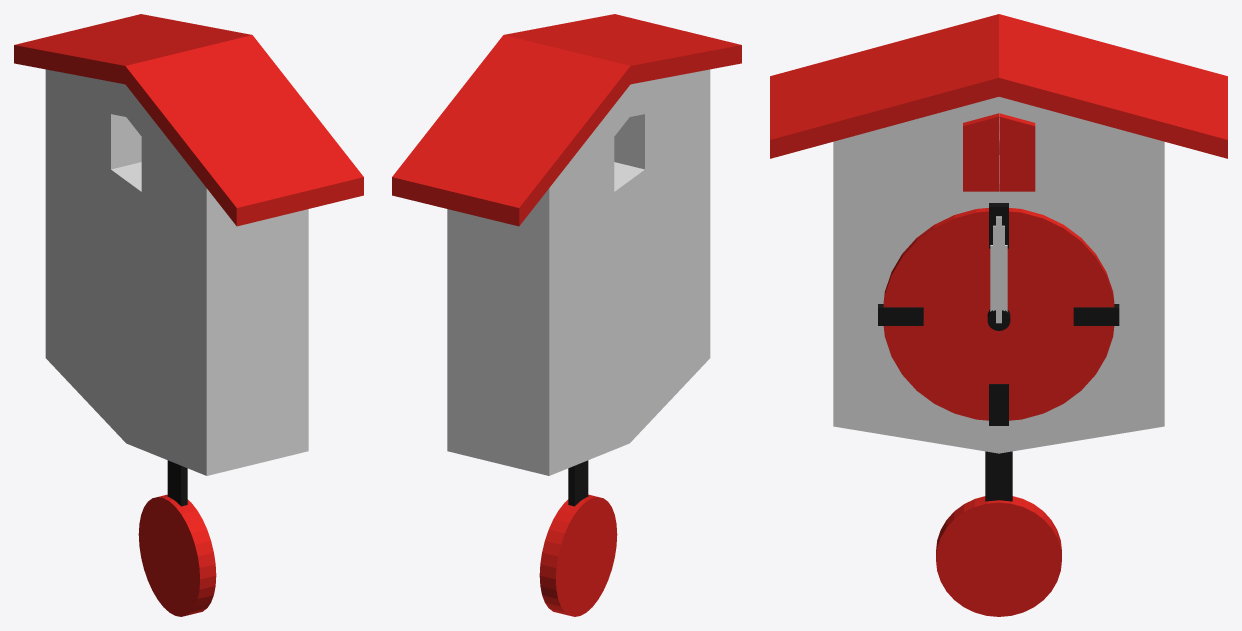
File: CuckooClockFinal.fbx
3 views of the same model, side by side, from view 1: azimuth 30°, elevation 25°; view 2: azimuth 150°, elevation 25°; view 3: azimuth 270°, elevation 25° (orthographic). The views are drawn at different scales.
Visible parts, largest first — view 1: body, roof, pendlum, hang; view 2: body, roof, pendlum, hang; view 3: body, roof, Dial, pendlum, notch, door-right, door-left, hang, sec.
Boxes of the visible parts, left/top/right/bottom form: body: left=45, top=69, right=308, bottom=475; roof: left=14, top=14, right=363, bottom=226; pendlum: left=138, top=494, right=216, bottom=616; hang: left=167, top=460, right=187, bottom=506; body: left=447, top=69, right=710, bottom=475; roof: left=392, top=14, right=741, bottom=226; pendlum: left=539, top=494, right=617, bottom=616; hang: left=568, top=460, right=588, bottom=506; body: left=833, top=97, right=1164, bottom=453; roof: left=770, top=14, right=1227, bottom=158; Dial: left=883, top=208, right=1114, bottom=420; pendlum: left=936, top=496, right=1061, bottom=616; notch: left=878, top=203, right=1119, bottom=425; door-right: left=999, top=113, right=1035, bottom=191; door-left: left=963, top=113, right=998, bottom=191; hang: left=985, top=451, right=1012, bottom=501; sec: left=996, top=216, right=1001, bottom=323.
Bounding box in the file's own units: 130 × 543 × 393.
